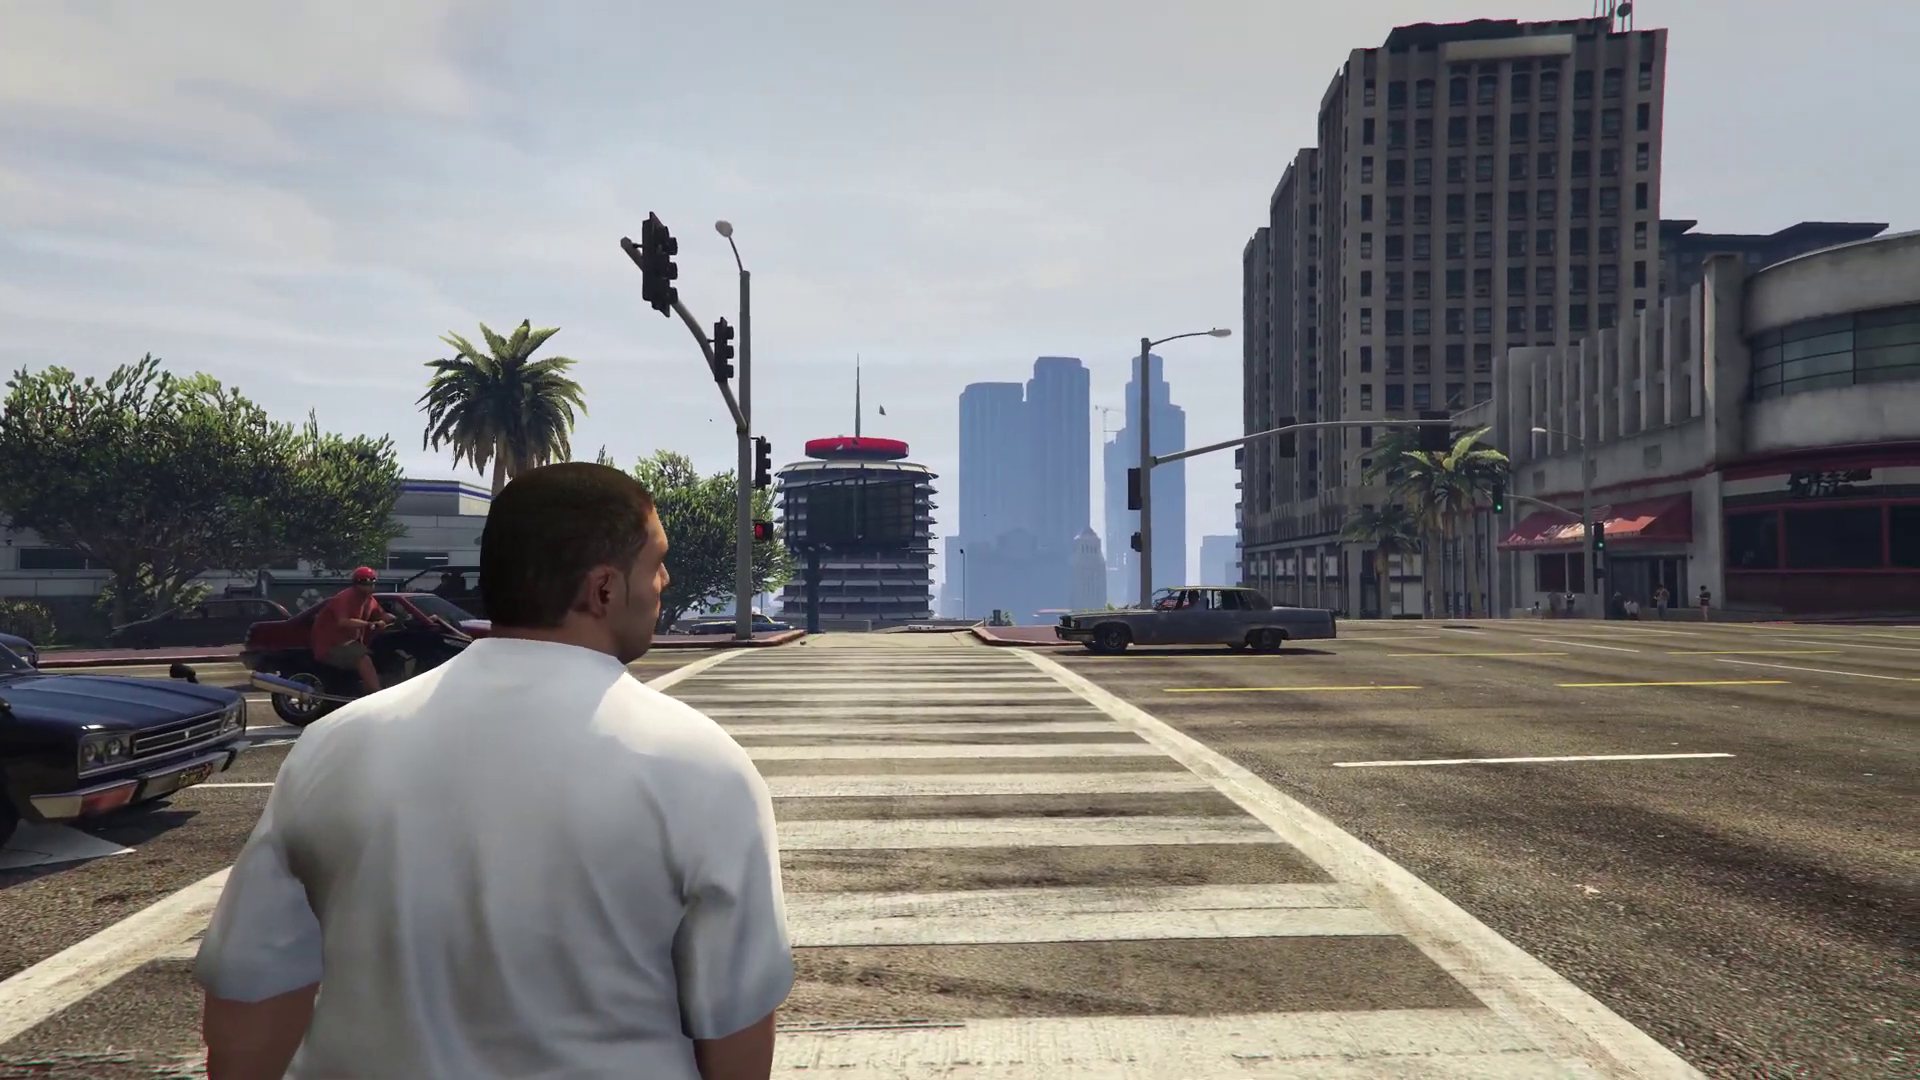car: (1, 638, 250, 823), (1054, 585, 1338, 656), (246, 591, 495, 669), (691, 612, 790, 632)
person: (204, 471, 788, 1080), (309, 566, 388, 696), (1696, 585, 1711, 621), (1655, 584, 1669, 619), (1625, 597, 1642, 621), (1548, 590, 1561, 618), (1611, 589, 1625, 619), (1564, 590, 1575, 615)
traffic light: (642, 214, 678, 316), (714, 319, 735, 381), (1420, 412, 1452, 452), (754, 438, 771, 492), (1128, 467, 1143, 513), (752, 520, 771, 543), (1493, 485, 1504, 513), (1596, 522, 1605, 550)
